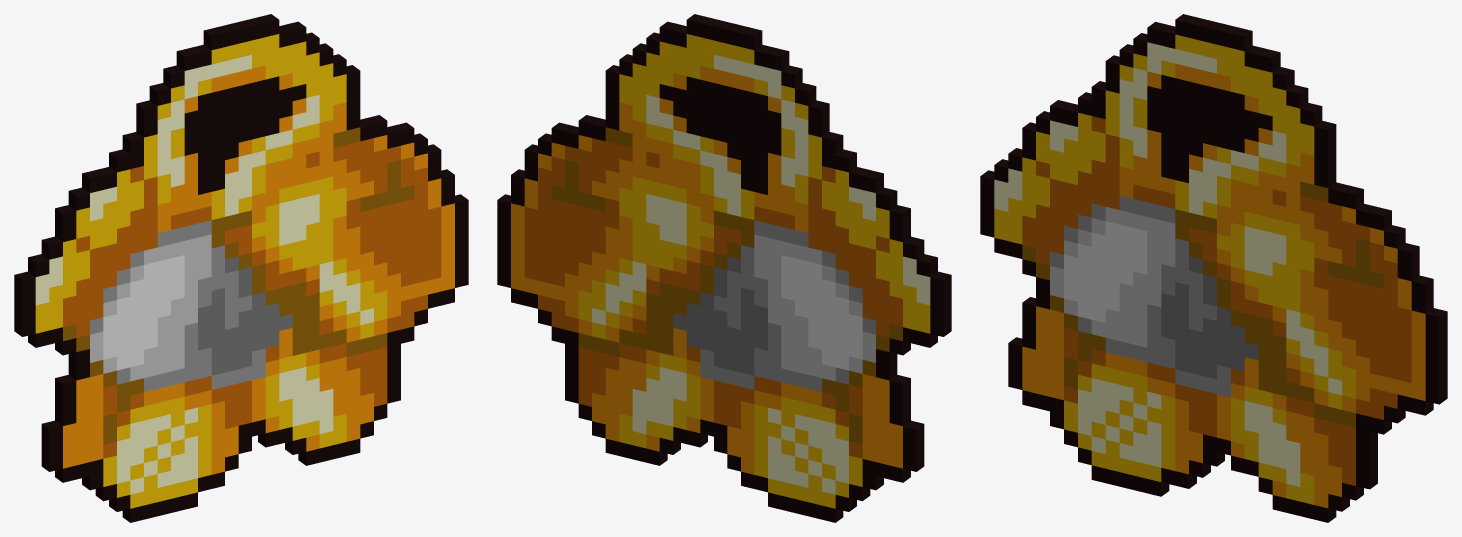
Rendered from A_Armour03.fbx.
3 renders of one model, left to right at view 1: azimuth 30°, elevation 25°; view 2: azimuth 150°, elevation 25°; view 3: azimuth 330°, elevation 25°, orthographic. The views are drawn at different scales.
Visible parts, largest first — view 1: Default; view 2: Default; view 3: Default.
Part boxes in pixels (x1,y1,x2,y2): Default: [14, 14, 468, 522]; Default: [497, 14, 951, 522]; Default: [980, 14, 1447, 522].
Size of the model in its own units: 33 by 33 by 1.
1 material, 1 textured.
